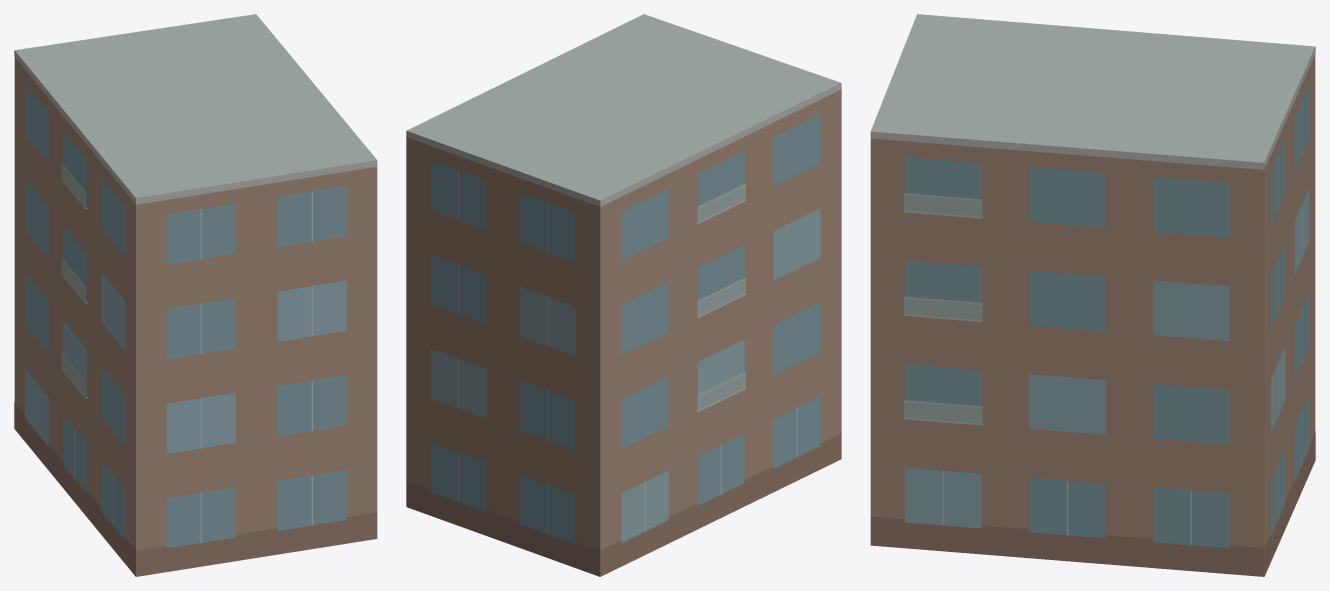
The model's file is survey-upis-32674046.glb.
3 views of the same model, side by side, from view 1: azimuth 30°, elevation 25°; view 2: azimuth 150°, elevation 25°; view 3: azimuth 270°, elevation 25° (orthographic). The views are drawn at different scales.
Parts seen in each view (by area): view 1: survey-upis-32674046.tmp; view 2: survey-upis-32674046.tmp; view 3: survey-upis-32674046.tmp.
Boxes of the visible parts, box(x1,y1,x2,y2) form: survey-upis-32674046.tmp: box(14, 14, 377, 576); survey-upis-32674046.tmp: box(406, 14, 841, 576); survey-upis-32674046.tmp: box(870, 14, 1315, 576).
Size of the model in its own units: 11.04 by 14.3 by 13.94.
